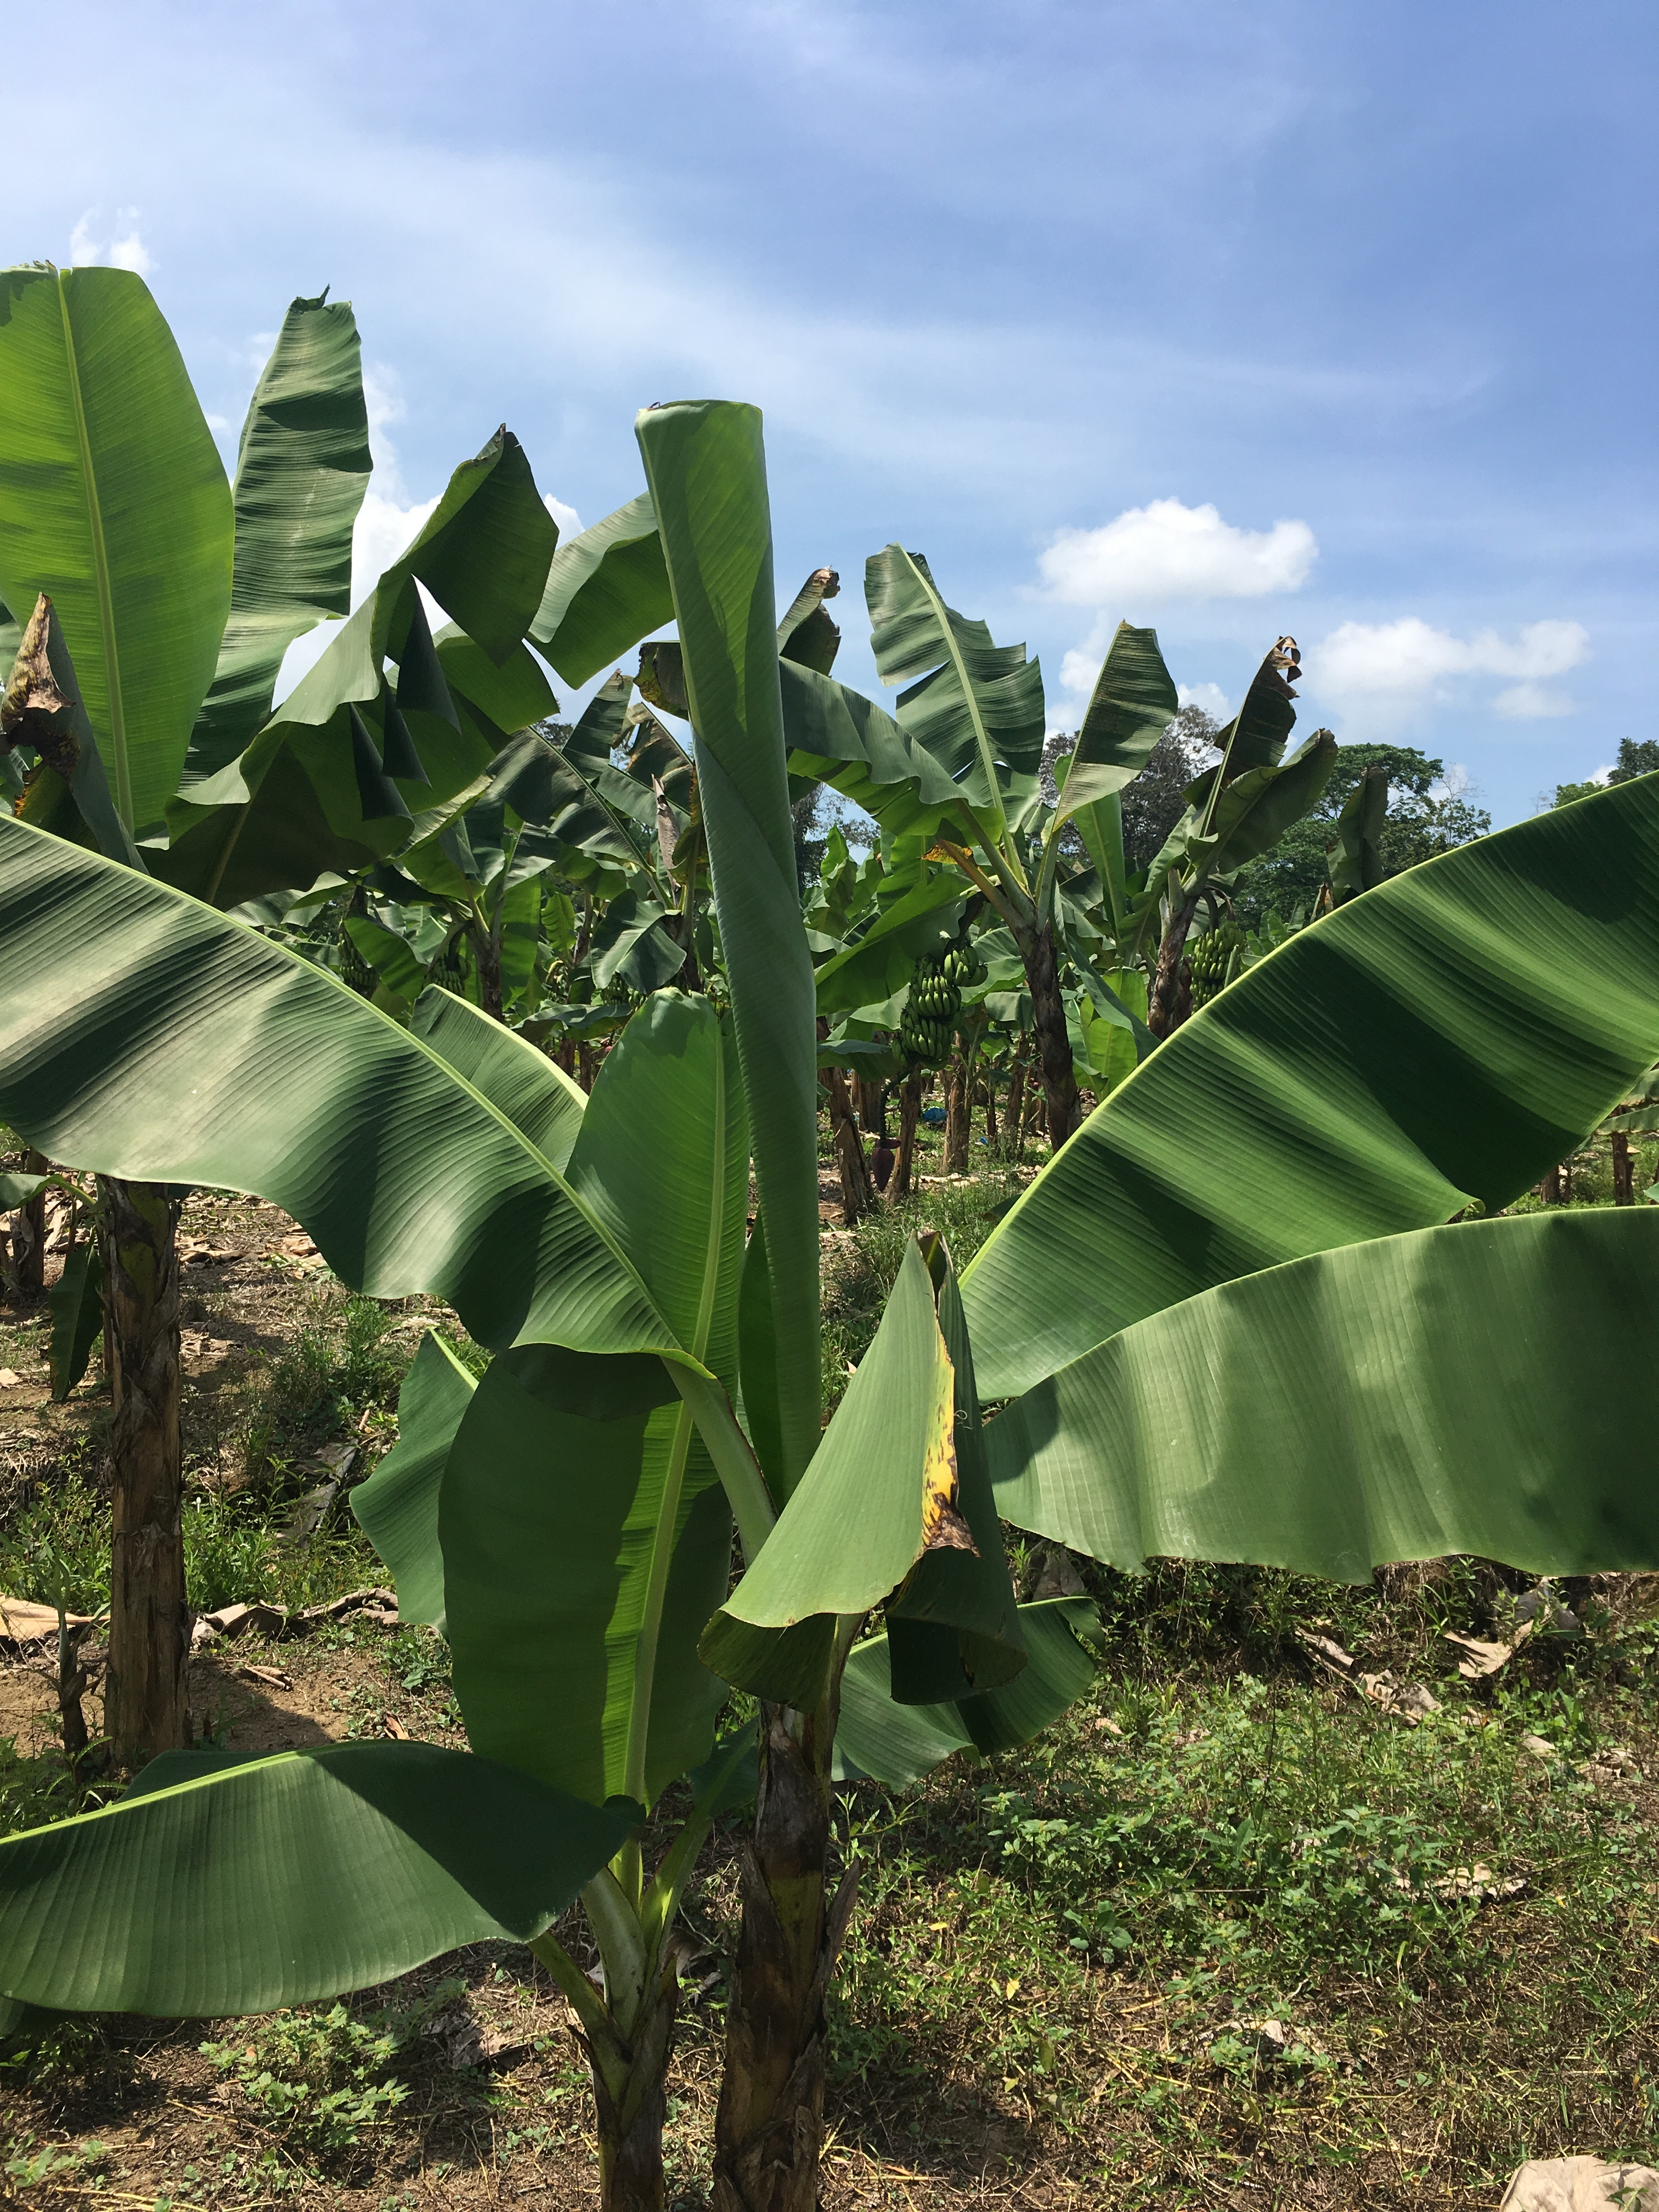candleleafs: (629, 390, 840, 1374)
